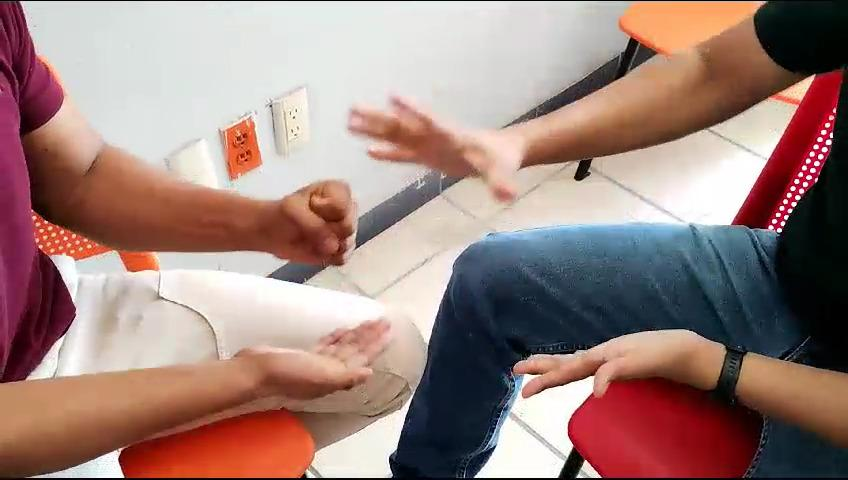Paper: (341, 90, 542, 211)
Stone: (264, 168, 368, 284)
